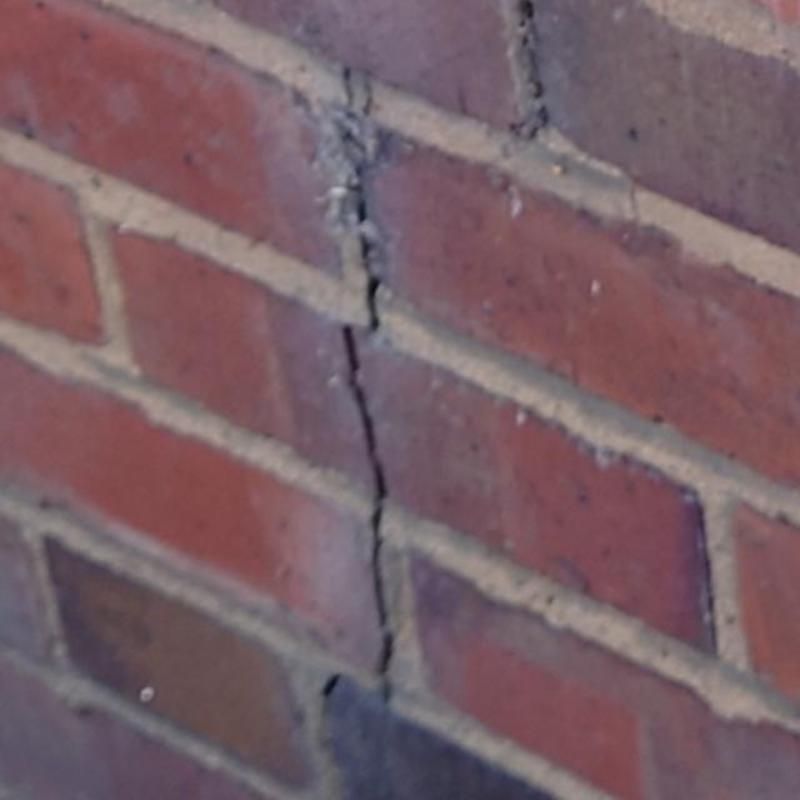pothole: (342, 325, 394, 700), (328, 67, 380, 327), (517, 0, 547, 138), (321, 672, 340, 698)
